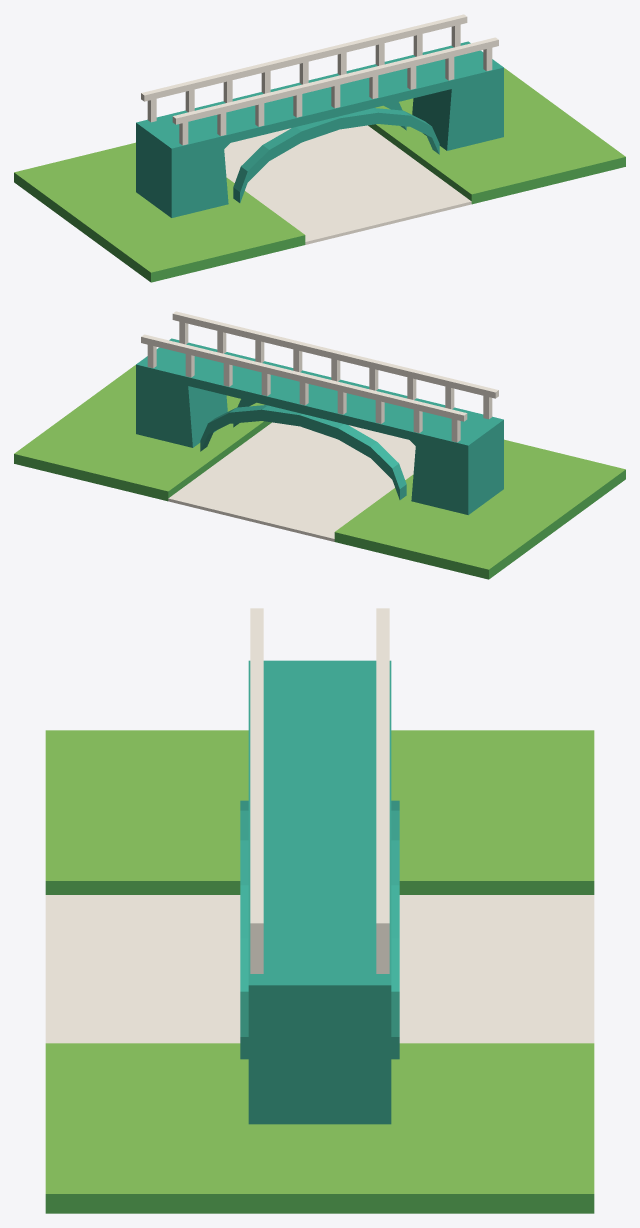
Rendered from skill_fraction_bridge_t2.glb.
3 views of the same model, one above another, from view 1: azimuth 30°, elevation 25°; view 2: azimuth 150°, elevation 25°; view 3: azimuth 270°, elevation 25° (orthographic). The views are drawn at different scales.
Parts seen in each view (by area): view 1: base, grow_deck, grow_rails, grow_arch; view 2: base, grow_deck, grow_rails, grow_arch; view 3: base, grow_deck, grow_rails, grow_arch.
Boxes of the visible parts, left/top/right/bottom form: base: left=14, top=68, right=625, bottom=282; grow_deck: left=136, top=41, right=503, bottom=217; grow_rails: left=141, top=14, right=498, bottom=145; grow_arch: left=224, top=102, right=439, bottom=202; base: left=14, top=365, right=625, bottom=579; grow_deck: left=136, top=338, right=503, bottom=514; grow_rails: left=141, top=311, right=498, bottom=442; grow_arch: left=200, top=399, right=415, bottom=499; base: left=45, top=730, right=594, bottom=1213; grow_deck: left=248, top=660, right=391, bottom=1124; grow_rails: left=250, top=608, right=389, bottom=973; grow_arch: left=240, top=800, right=399, bottom=1059.
Size of the model in its own units: 2 by 0.435 by 1.
